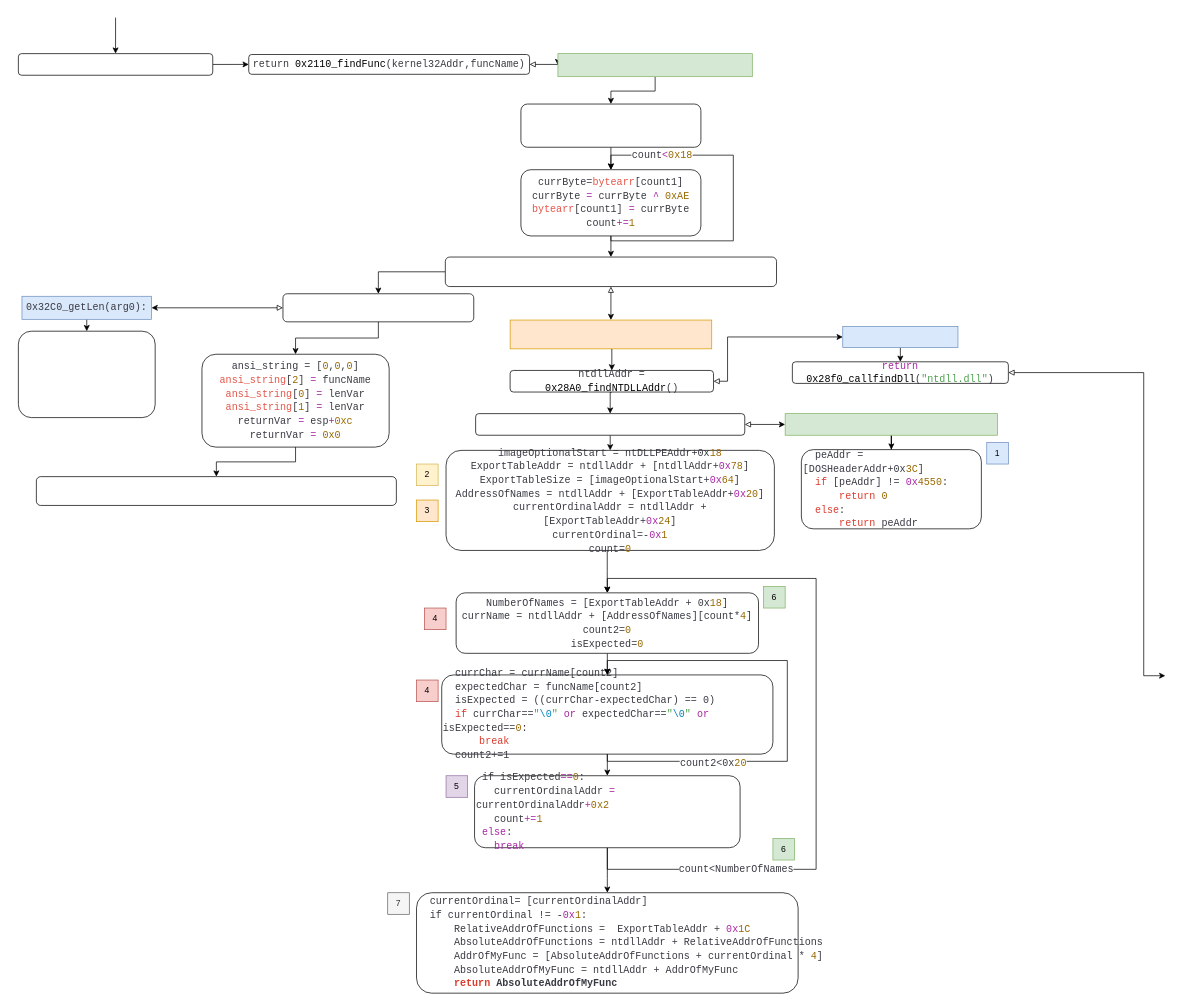
Some shapes in this 1184 by 1006 pixel diagram are drawn without their labels. The centre of each missing label's shape, as x and y in pixels:
0x2110_findFunc(dllAddr,funcName): the point at 654,65
0x2270_getNTDLLFuncAddr (funcName): the point at 610,334
0x27D0_getPEHeaderAddr(DOSHeaderAddr): the point at 891,424
0x28A0_findNTDLLAddr: the point at 900,336
bytearr=[] memcpy (bytearr, 0x4050B0 , 0x19 ) count = 0: the point at 610,125
count= 0 while True: if arg0 [i] != " \0 " : count += 1 else : return count: the point at 86,374
kernel32Addr = 0x2880_findKernel32 (): the point at 115,64
LdrGetProcedureAddress = 0x2270_getNTDLLFuncAddr (bytearr): the point at 611,271
lenVar = 0x32C0_getLen (funcName): the point at 378,307
ntDllPEAddr = 0x27D0_getPEHeaderAddr (ntdllAddr): the point at 610,424
return LdrGetProcedureAddress (dllAddr, & ansi_string, 0 ,returnVar): the point at 216,490
